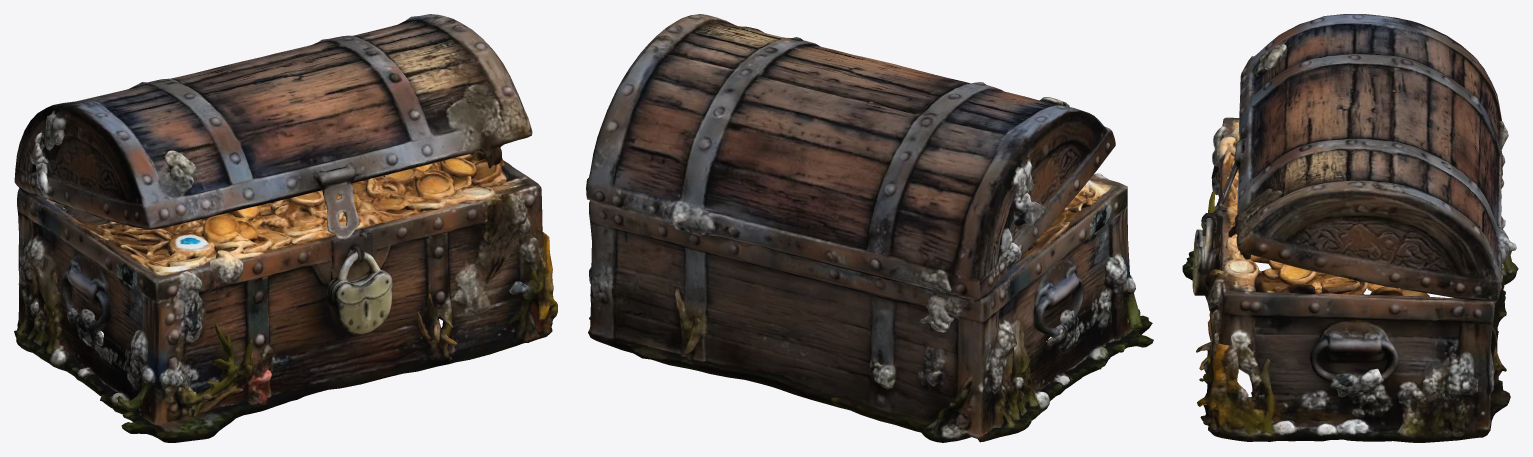
Rendered from treasure chest floating.glb.
3 renders of one model, left to right at view 1: azimuth 30°, elevation 25°; view 2: azimuth 150°, elevation 25°; view 3: azimuth 270°, elevation 25°, orthographic. The views are drawn at different scales.
Parts seen in each view (by area): view 1: geometry_0; view 2: geometry_0; view 3: geometry_0.
Part boxes in pixels (x1,y1,x2,y2): geometry_0: [14, 14, 557, 442]; geometry_0: [586, 14, 1153, 442]; geometry_0: [1182, 14, 1518, 442].
Size of the model in its own units: 0.9994 by 0.5843 by 0.7018.
1 material, 1 textured.
